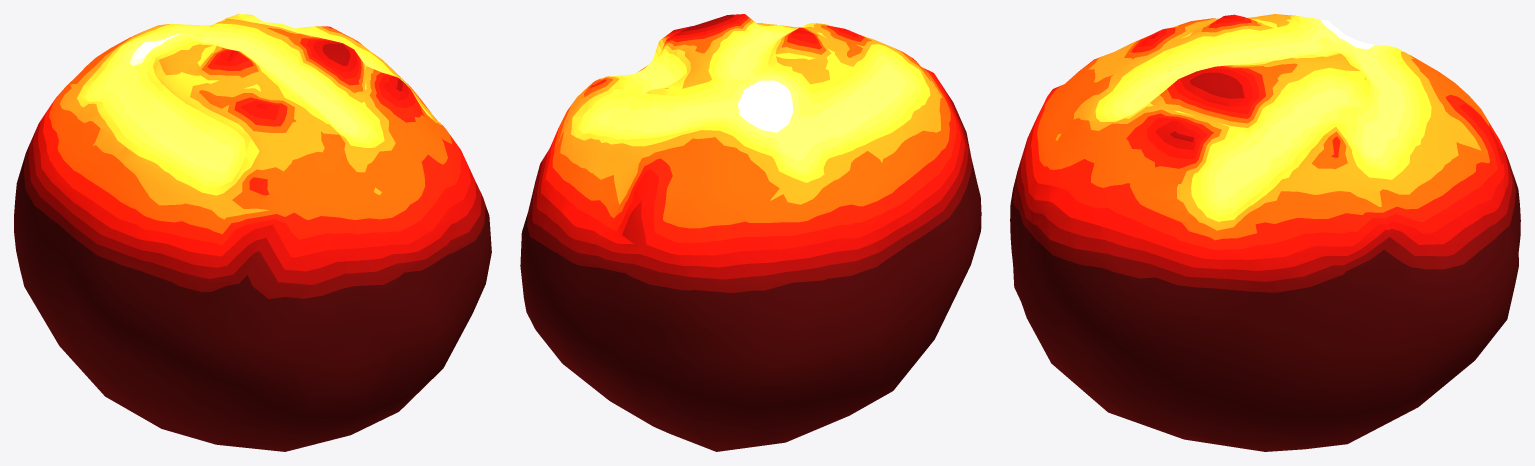
Rendered from molten_rock_135.glb.
3 renders of one model, left to right at view 1: azimuth 30°, elevation 25°; view 2: azimuth 150°, elevation 25°; view 3: azimuth 270°, elevation 25°, orthographic. The views are drawn at different scales.
Parts seen in each view (by area): view 1: molten_rock; view 2: molten_rock; view 3: molten_rock.
Part boxes in pixels (x1,y1,x2,y2): molten_rock: [14, 14, 491, 451]; molten_rock: [520, 14, 981, 451]; molten_rock: [1010, 14, 1520, 451].
Size of the model in its own units: 10.65 by 10.72 by 12.42.
